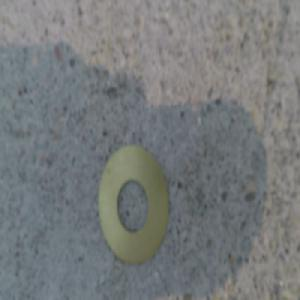Washer: (98, 142, 170, 262)
